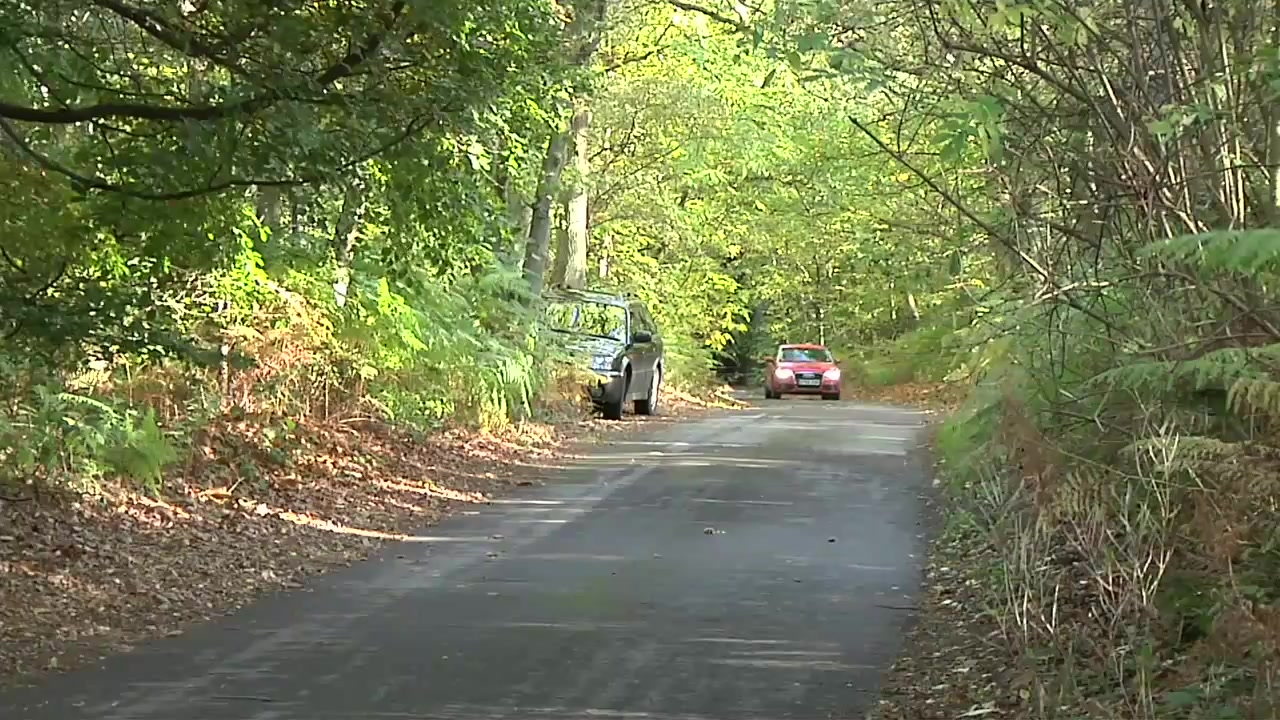car: (760, 339, 848, 400)
